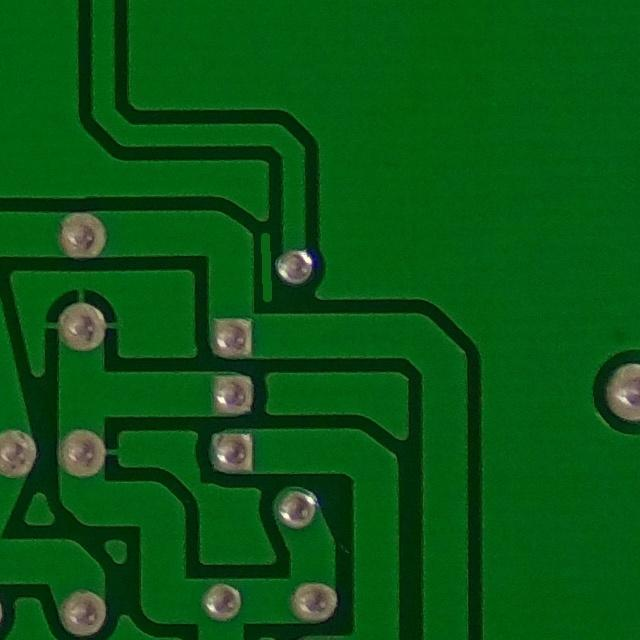spurious_copper: (252, 221, 286, 309)
